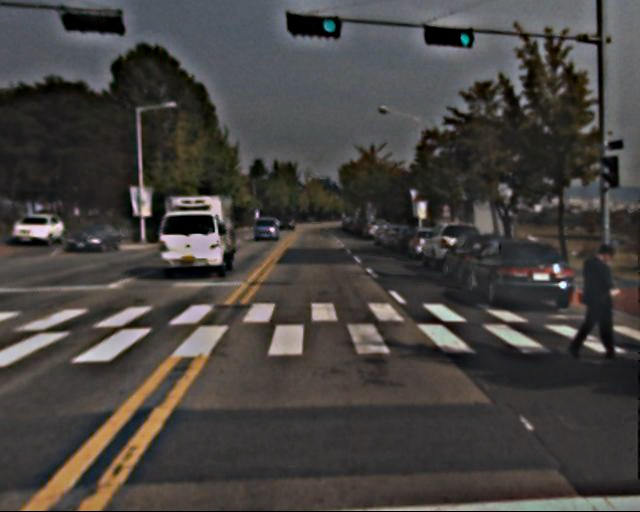person: (569, 243, 626, 367)
